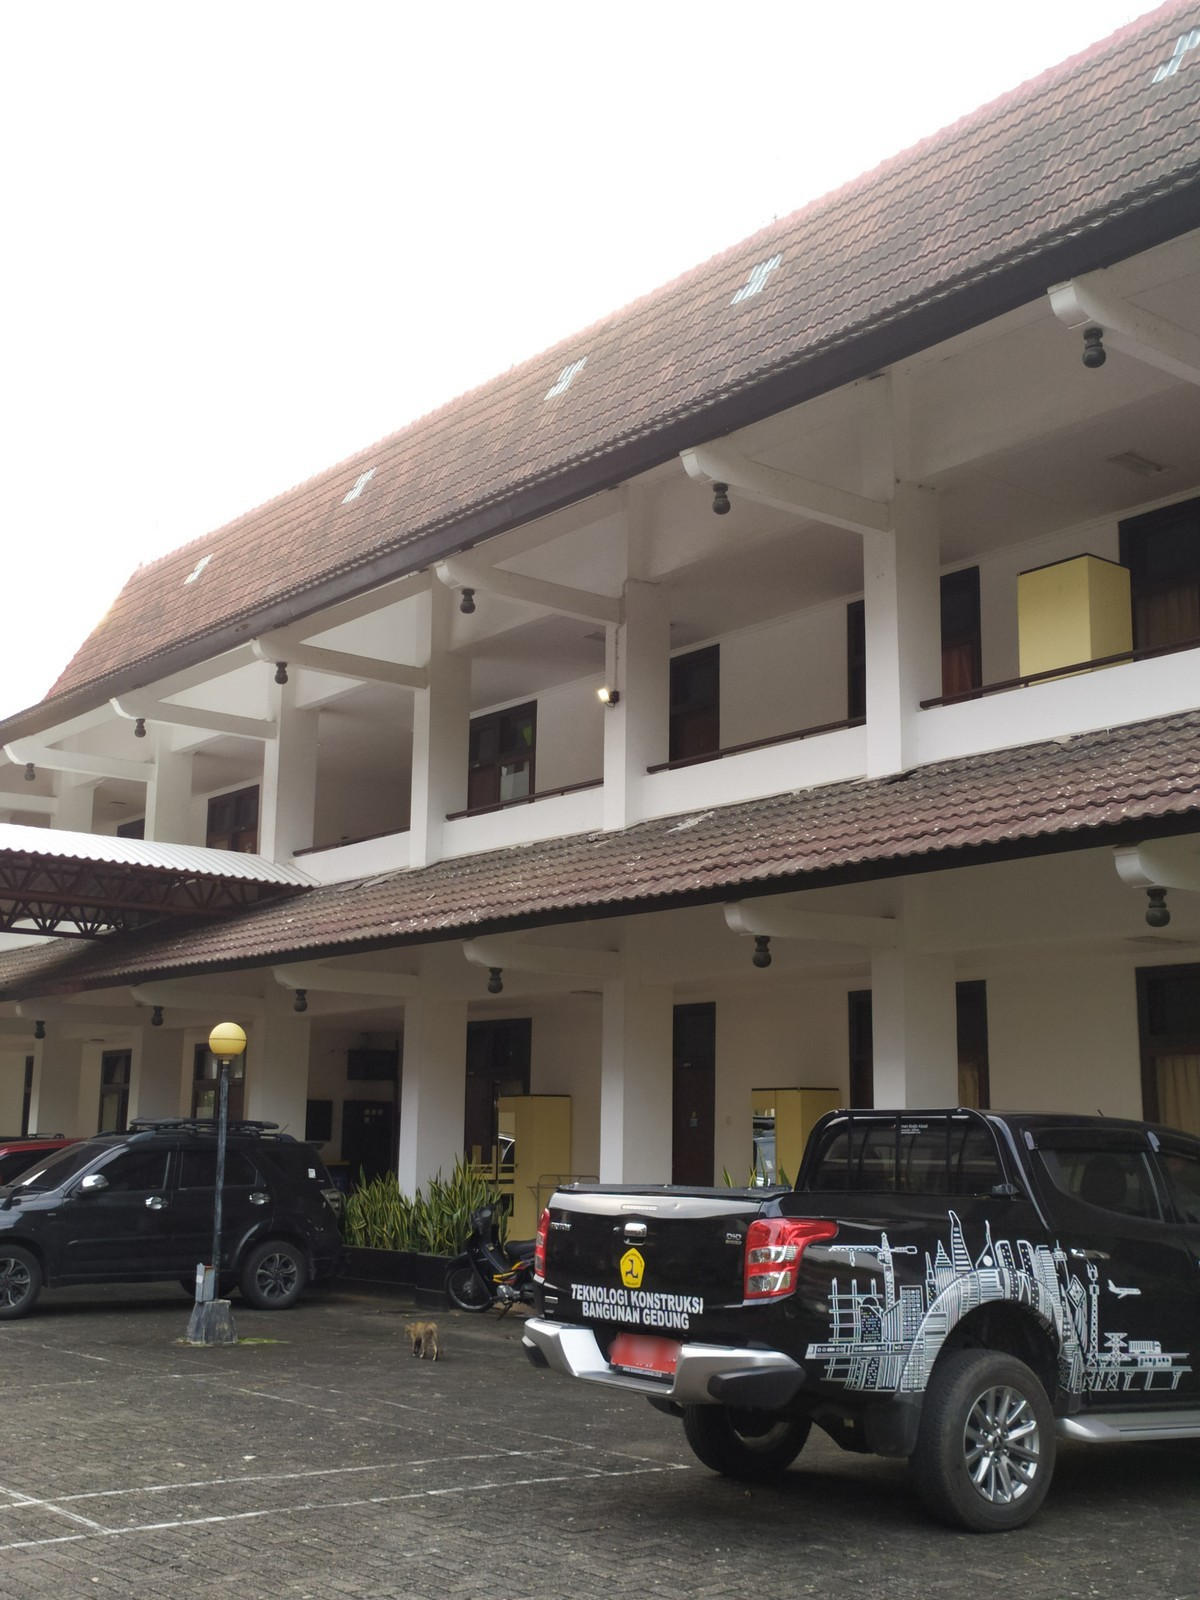concrete beam: (730, 455, 896, 544), (294, 643, 429, 700), (487, 574, 629, 629), (153, 700, 282, 750), (787, 912, 910, 955)
concrete column: (856, 425, 953, 789), (597, 559, 679, 837), (589, 976, 686, 1189), (405, 614, 476, 877), (389, 981, 475, 1199), (865, 946, 968, 1115), (251, 689, 325, 884)
